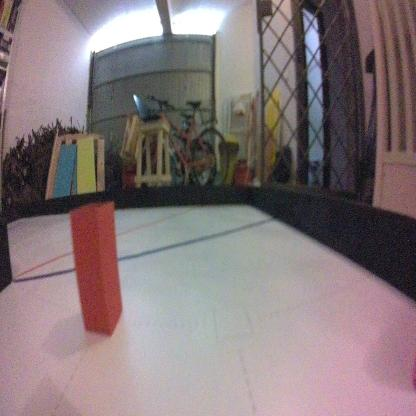red: (69, 203, 127, 343)
